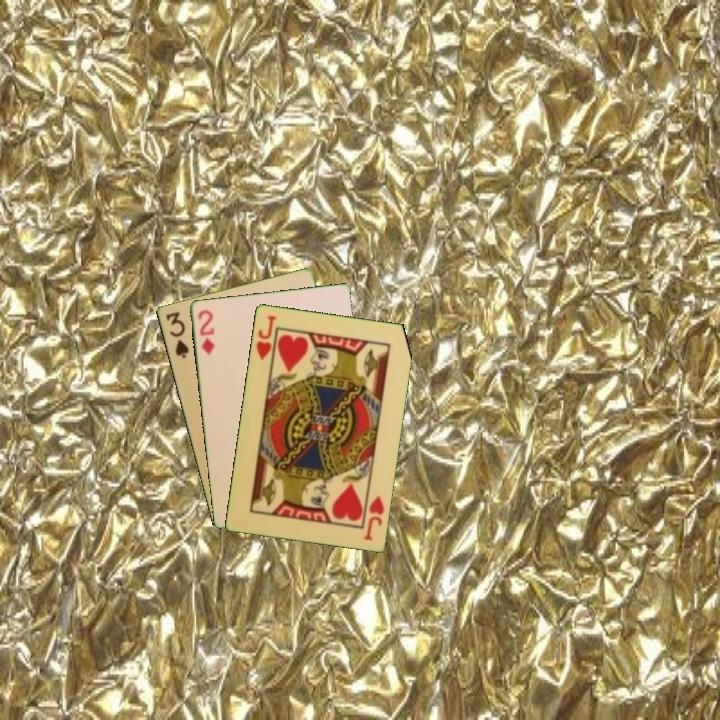2d: (194, 306, 217, 358)
3s: (162, 308, 192, 361)
Jh: (252, 311, 279, 362), (360, 492, 387, 543)
